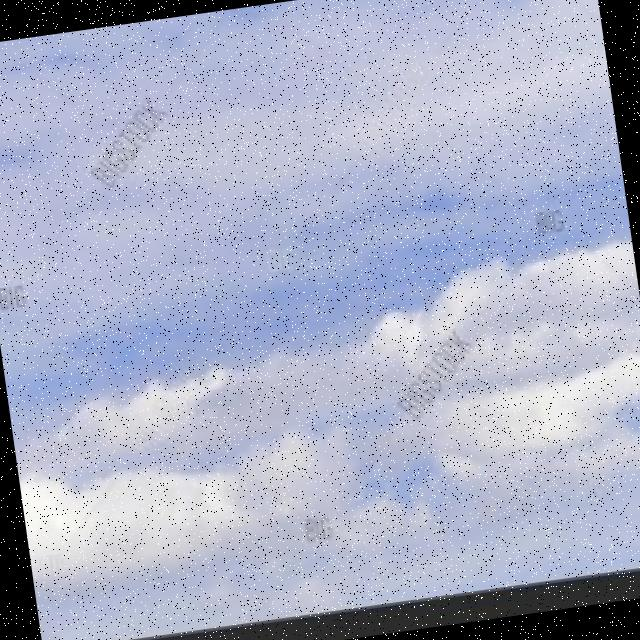Cs: (1, 231, 640, 626)
